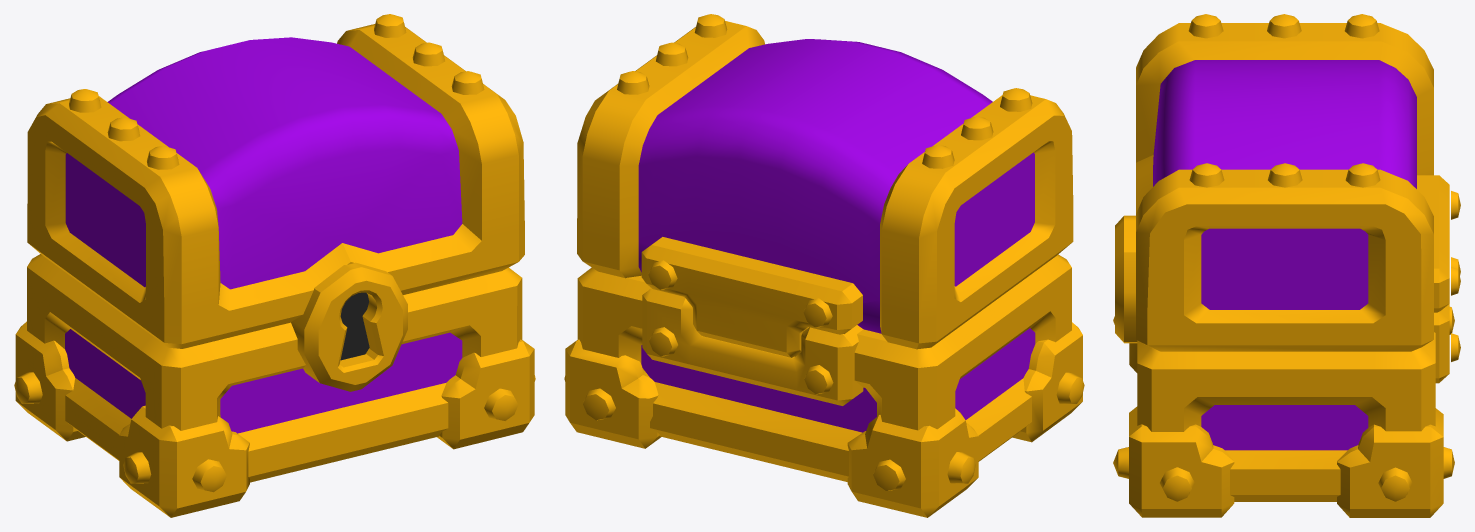
Rendered from chest_05.fbx.
The picture shows the model from 3 angles, left to right: view 1: azimuth 30°, elevation 25°; view 2: azimuth 150°, elevation 25°; view 3: azimuth 270°, elevation 25°; orthographic projection.
Parts seen in each view (by area): view 1: shest_Level_05_cap, chest_Level_05_body; view 2: shest_Level_05_cap, chest_Level_05_body; view 3: shest_Level_05_cap, chest_Level_05_body.
Part boxes in pixels (x1,y1,x2,y2): shest_Level_05_cap: (27,14,524,391); chest_Level_05_body: (14,254,535,517); shest_Level_05_cap: (577,14,1073,357); chest_Level_05_body: (564,254,1084,517); shest_Level_05_cap: (1115,14,1460,351); chest_Level_05_body: (1113,257,1460,517).
Size of the model in its own units: 167 by 134 by 123.
1 material, 1 textured.
